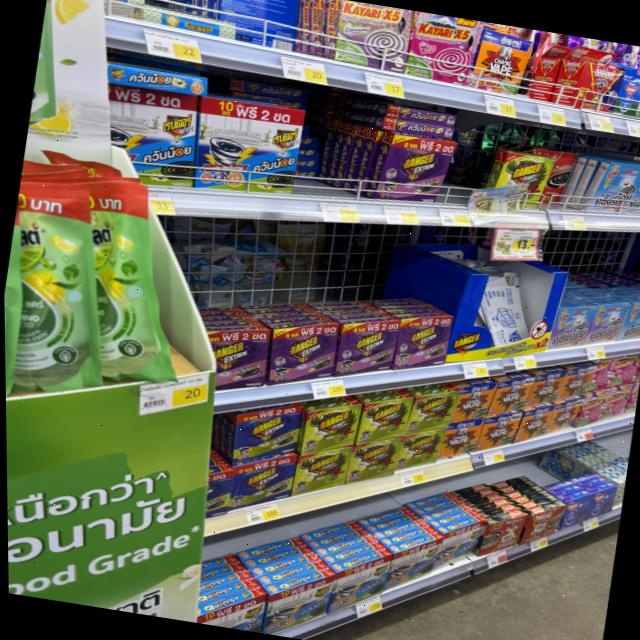empty_shelf: (290, 96, 371, 199), (445, 123, 502, 200)
